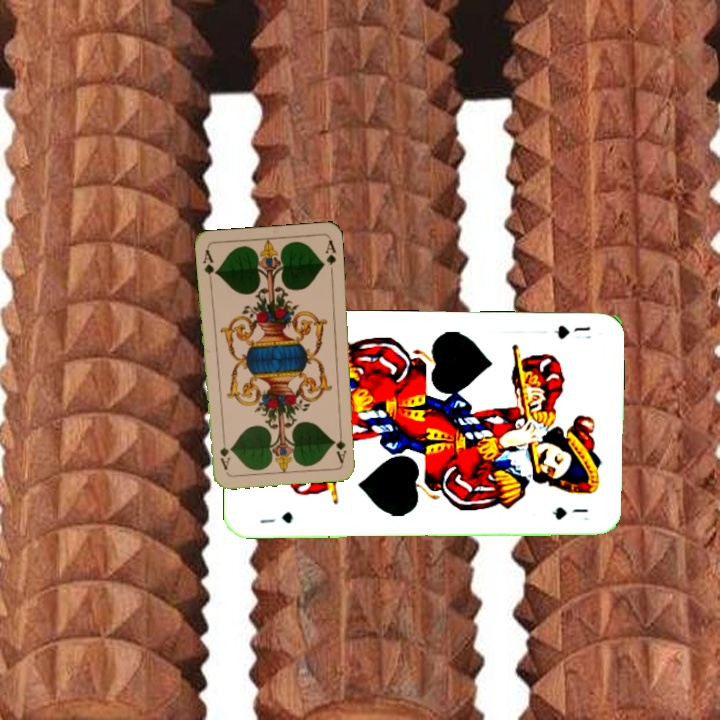GA: (199, 245, 219, 286), (333, 425, 349, 465)
GU: (550, 321, 594, 342), (256, 507, 295, 526)
